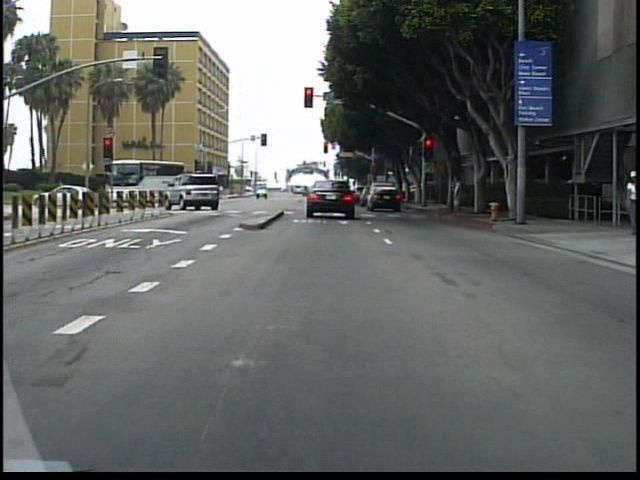person: (450, 169, 467, 214)
